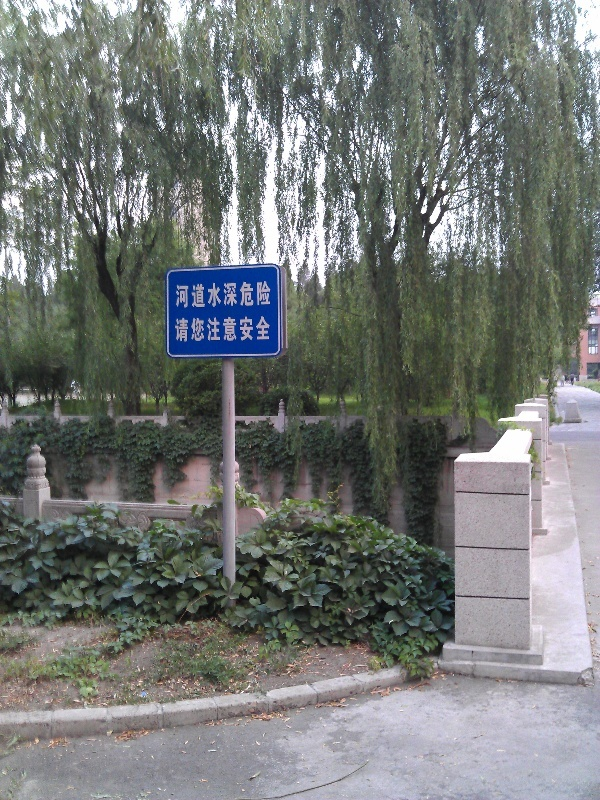text: (177, 280, 192, 309), (193, 280, 208, 309), (209, 280, 224, 309), (225, 280, 240, 309), (241, 280, 256, 309), (257, 280, 272, 309), (177, 315, 192, 344), (193, 315, 208, 344), (209, 315, 224, 344), (225, 315, 240, 344), (241, 315, 256, 344), (257, 315, 271, 344), (174, 315, 176, 344)
